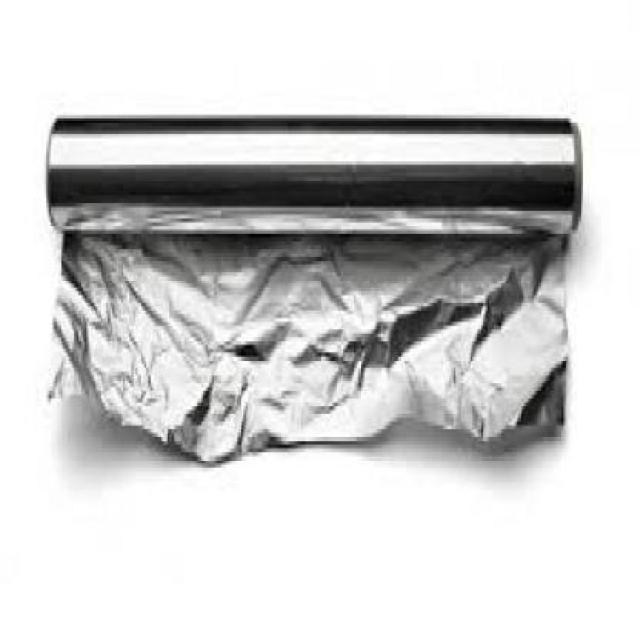METAL: (42, 114, 581, 463)
